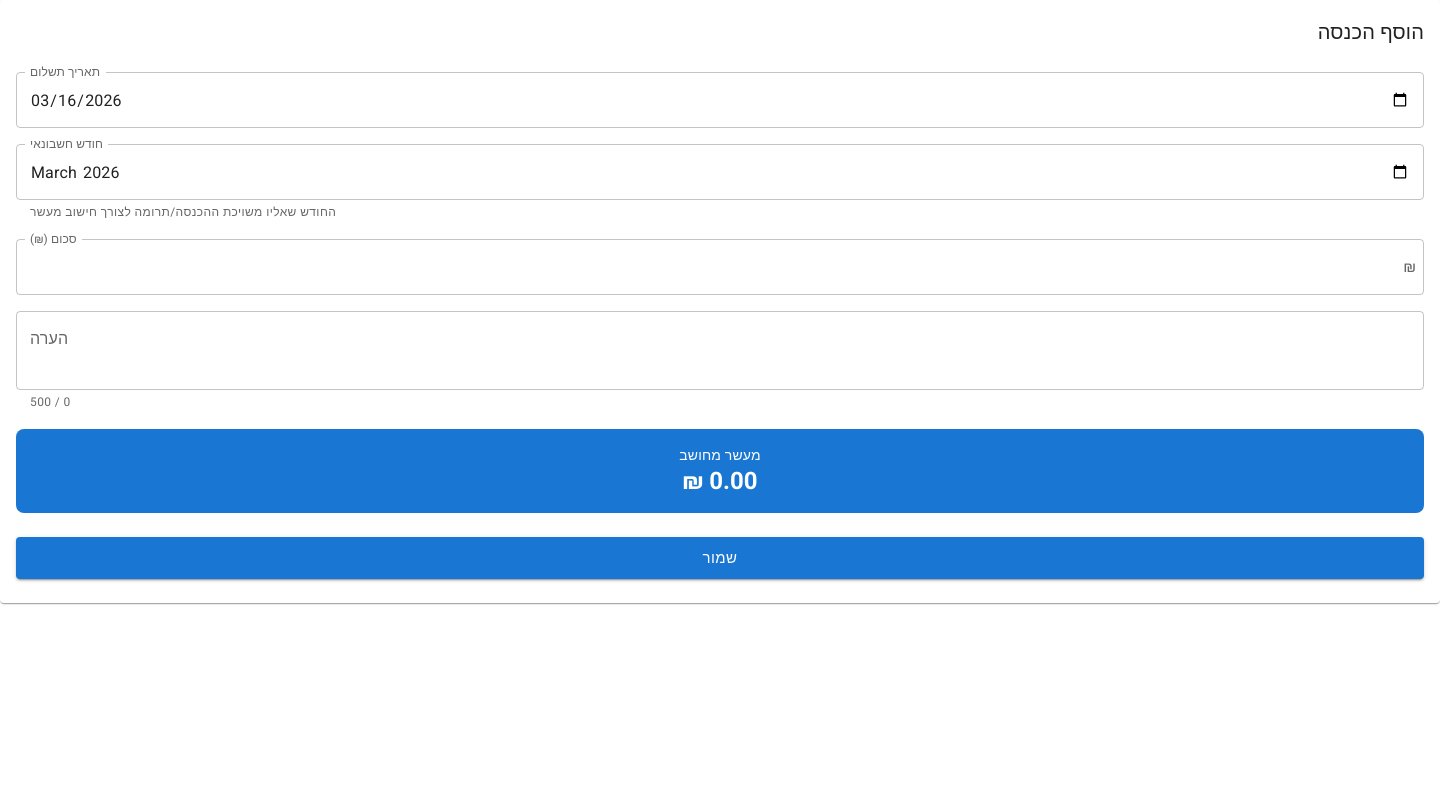
Test: AddIncome Component › form validation › should show error when submitting without amount
The width and height of the screenshot is (1440, 810).
Click the button "שמור" at (720, 558), box [16,537,1424,579]
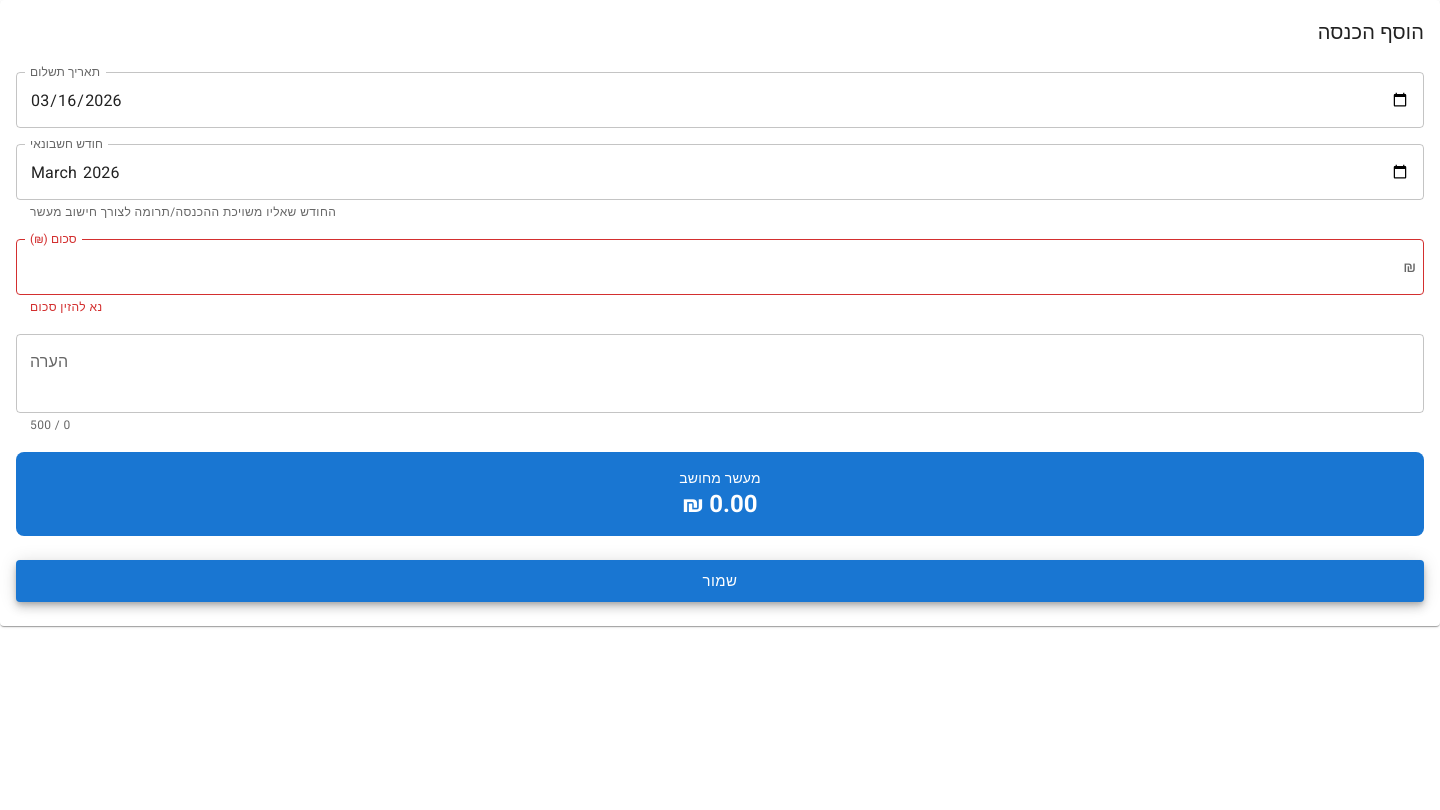
Result: the text "נא להזין סכום" is shown at [30,300,102,314]
